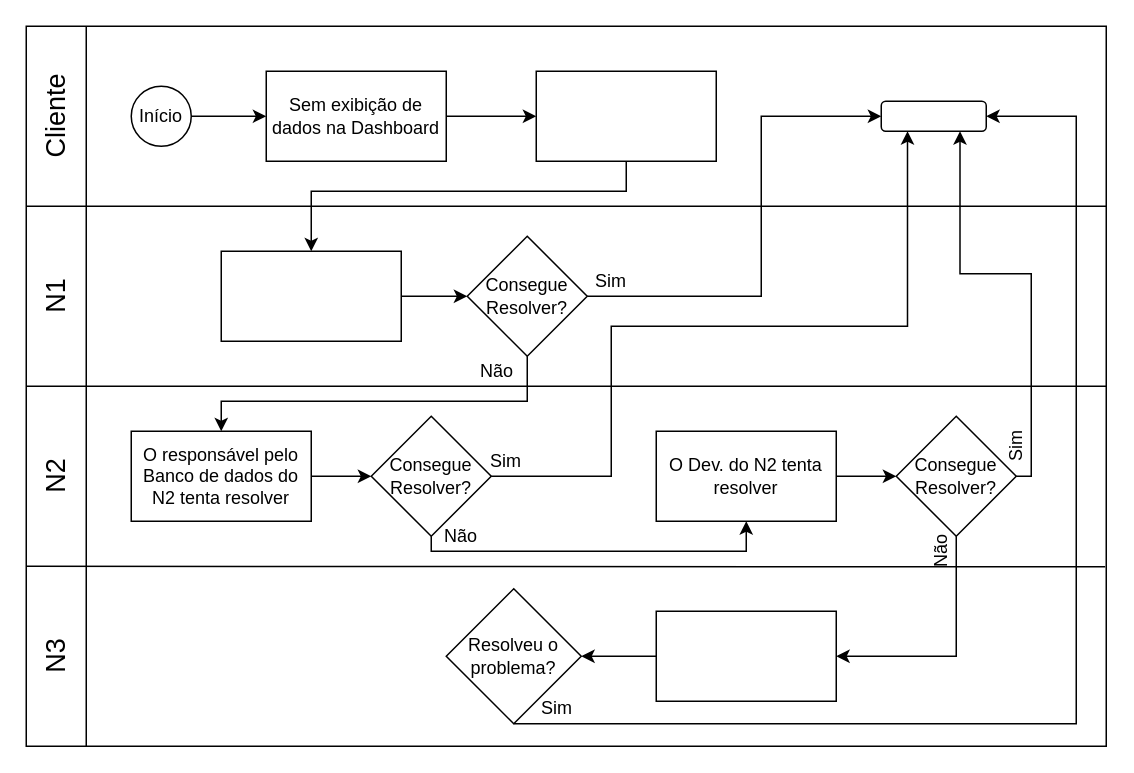
This 1134x773 diagram has some shape labels left out. Each missing label, with the centre of its shape:
Cliente entra em contato com o suporte: the point at 625,115
Fim: the point at 933,115
N1 Faz o diagnóstico do problema: the point at 310,295
O N3 solicita a implantação de um novo sensor: the point at 745,655
